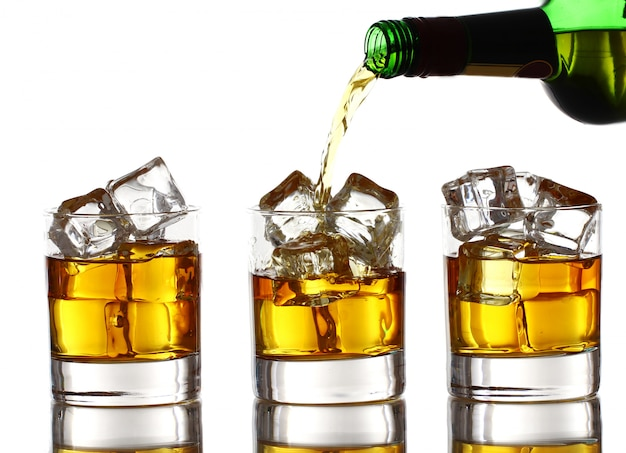alcohol: (39, 147, 199, 405), (442, 163, 608, 402), (246, 159, 407, 403), (363, 0, 626, 123)
